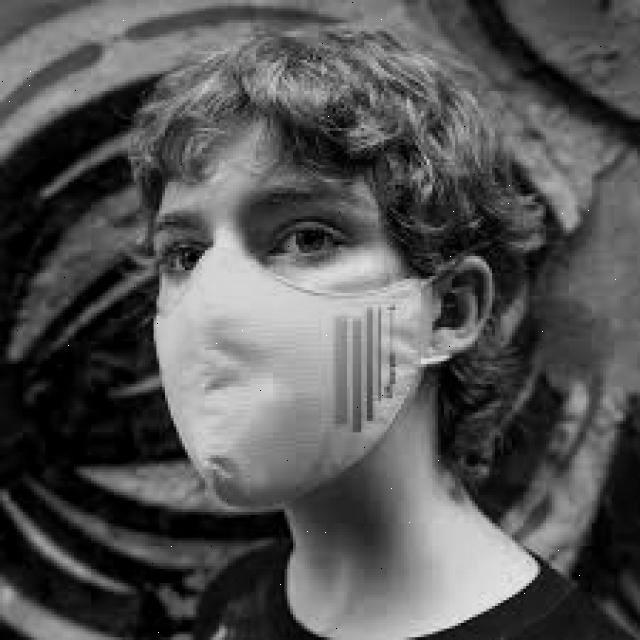fake: (147, 259, 432, 509)
real: (145, 129, 419, 515)
